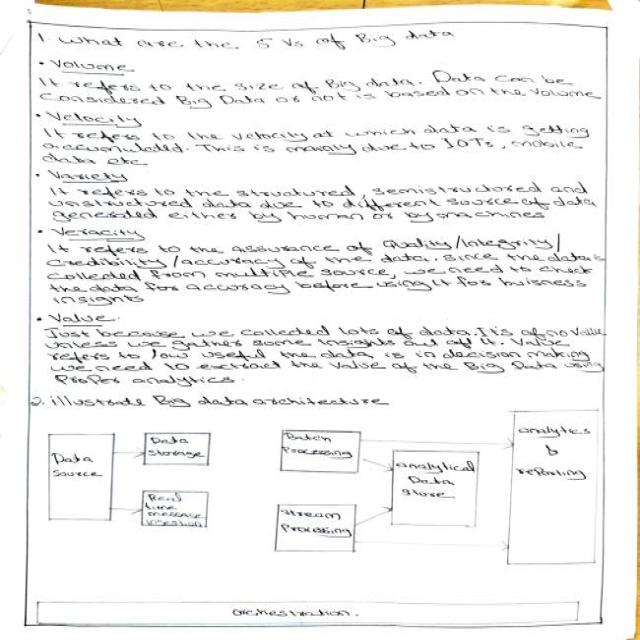Figure Detection - v3 Dataset Version2: (34, 404, 605, 626)
